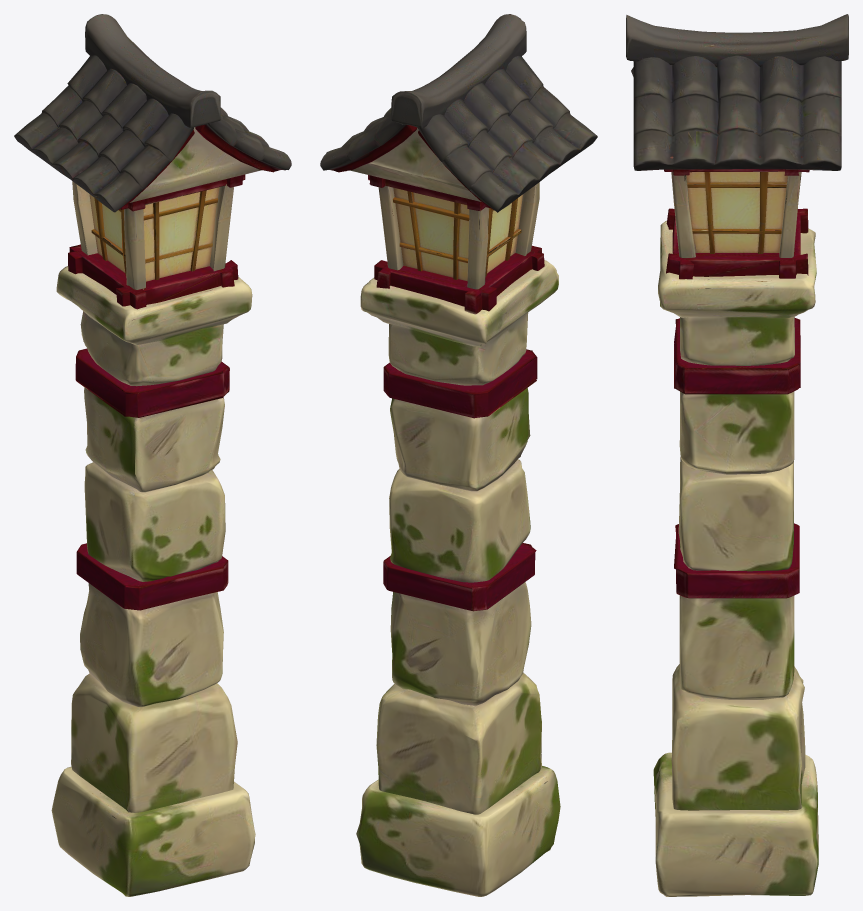
File: pillar_a.glb
3 renders of one model, left to right at view 1: azimuth 30°, elevation 25°; view 2: azimuth 150°, elevation 25°; view 3: azimuth 270°, elevation 25°, orthographic. The views are drawn at different scales.
Visible parts, largest first — view 1: geometry_0; view 2: geometry_0; view 3: geometry_0.
Boxes of the visible parts, left/top/right/bottom form: geometry_0: left=14, top=14, right=291, bottom=896; geometry_0: left=320, top=14, right=597, bottom=896; geometry_0: left=626, top=14, right=848, bottom=896.
Bounding box in the file's own units: 0.2246 × 0.9512 × 0.2256.
1 material, 1 textured.
